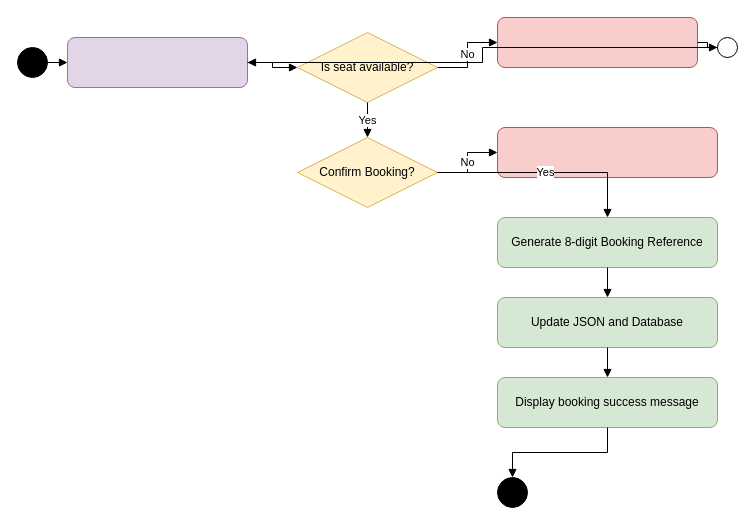
Some shapes in this 755 by 525 pixel diagram are drawn without their labels. Here are the shapes that lost their labels. From the top down, the centre of each, then its label:
the point at 157,62: Input Seat Number
the point at 597,42: Show error message and re-input
the point at 607,152: Cancel booking and return to Main Menu
